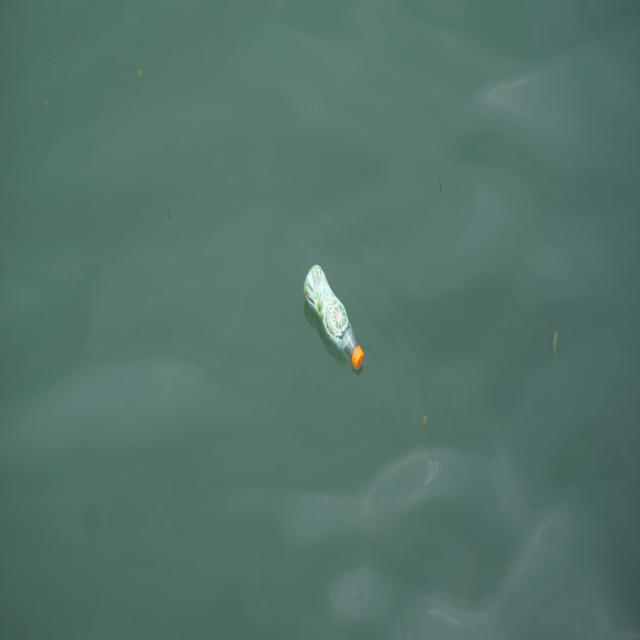Botol Plastik: (301, 258, 370, 379)
